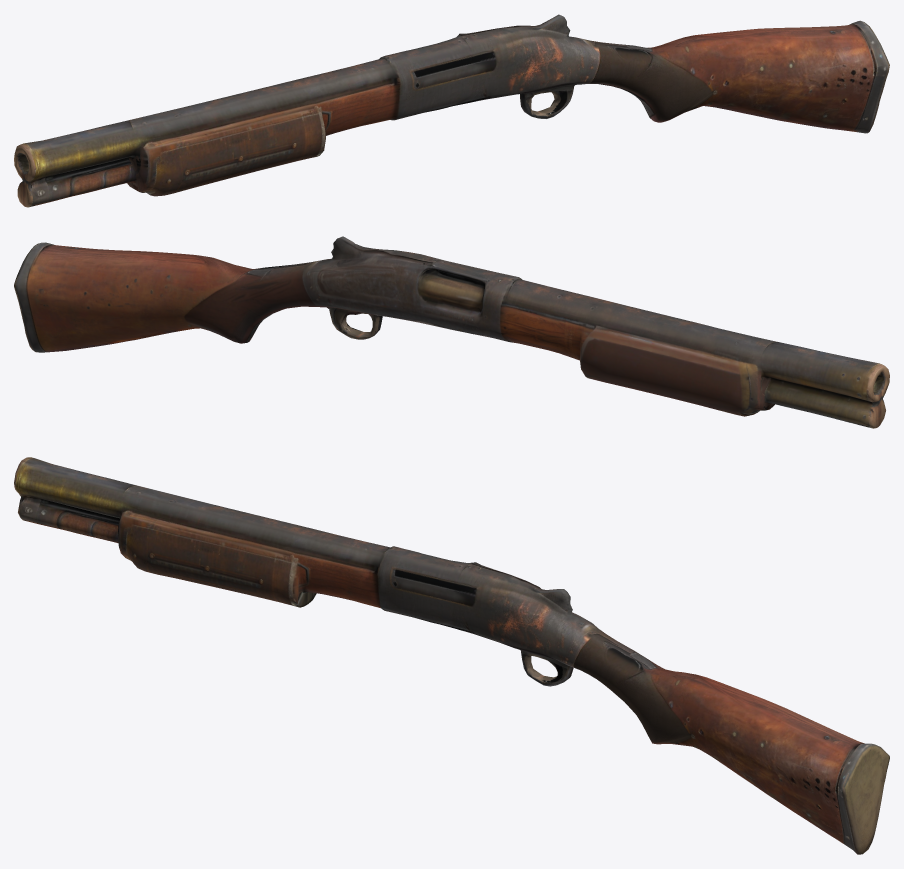
Rendered from Sawed_Off_SHOTGUN_po_0814060430_texture.fbx.
The picture shows the model from 3 angles, top to bottom: view 1: azimuth 30°, elevation 25°; view 2: azimuth 150°, elevation 25°; view 3: azimuth 330°, elevation 25°; orthographic projection.
Parts seen in each view (by area): view 1: input; view 2: input; view 3: input.
Part boxes in pixels (x1,y1,x2,y2): input: (14, 14, 889, 207); input: (14, 236, 889, 428); input: (14, 457, 889, 854).
Bounding box in the file's own units: 199 × 43.05 × 18.42.
Materials: 1 (1 with a texture image).
